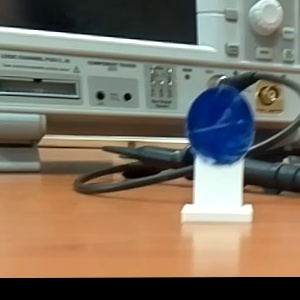circle: (165, 84, 271, 228)
